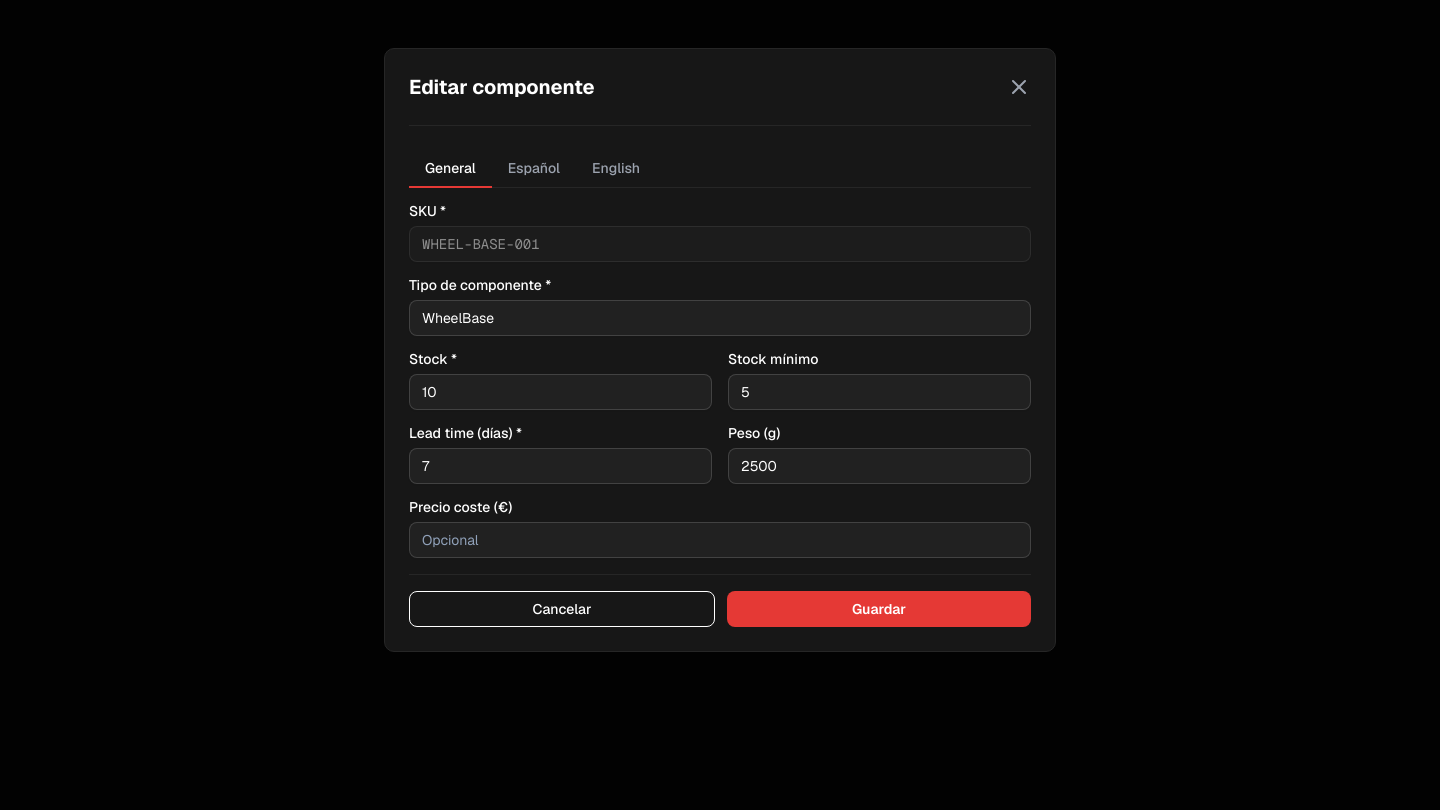
ComponentModal › edición › precarga el nombre en español
Click the button "Español" at coordinates (534, 169), box x1=492 y1=150 x2=576 y2=188
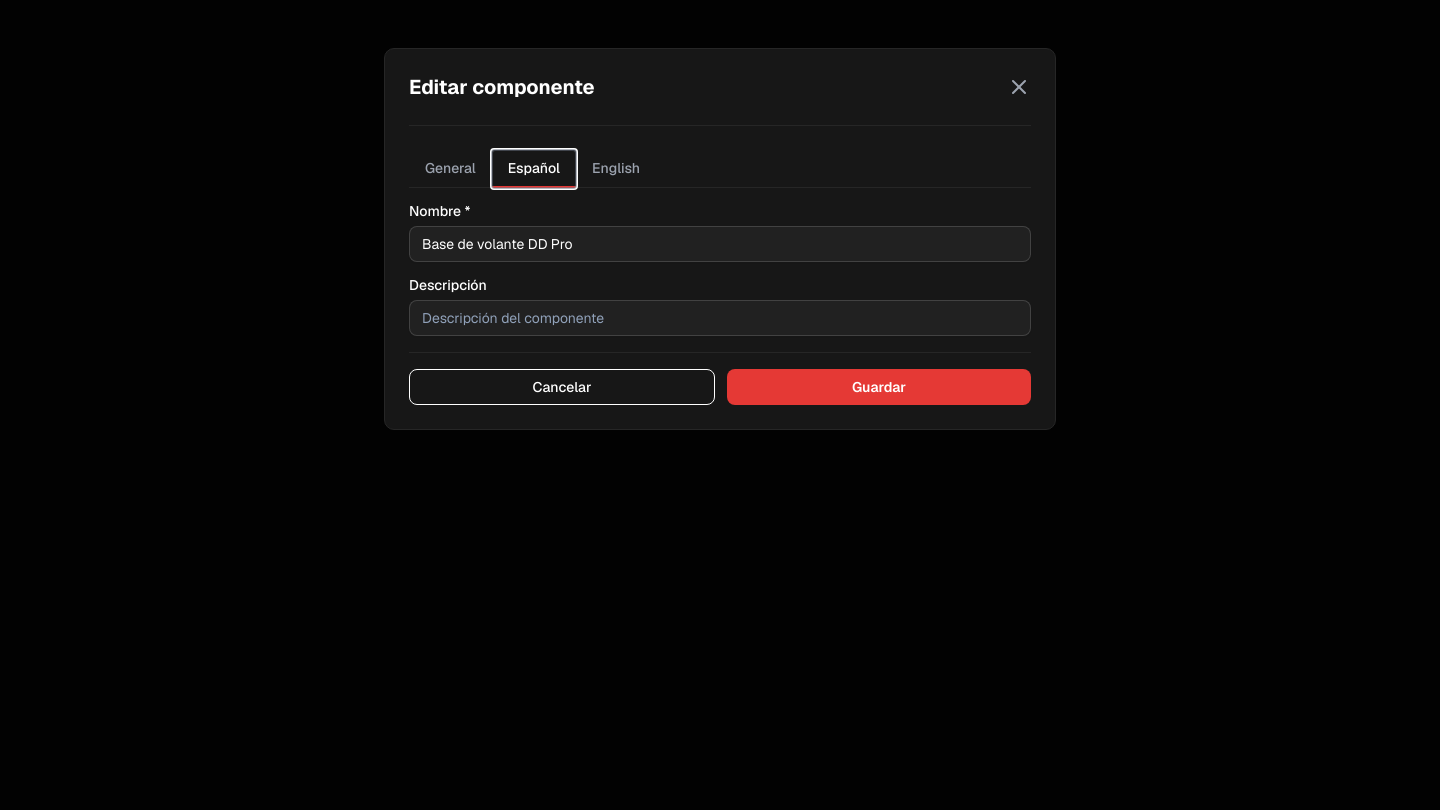
Now the field labelled "Nombre *" holds "Base de volante DD Pro", box x1=409 y1=226 x2=1031 y2=262
